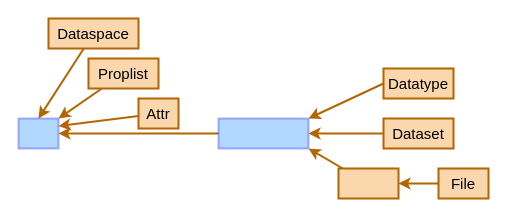
The diagram is 506 pixels wide and 216 high, and some of its shapes have lost their labels. The shapes that lost their labels are listed below. From the top down, each one's box as (x1, y1, x2, y2) in pixels, then its label:
(17, 117, 59, 149): Obj
(217, 117, 309, 149): NamedObj
(337, 167, 399, 199): Group
